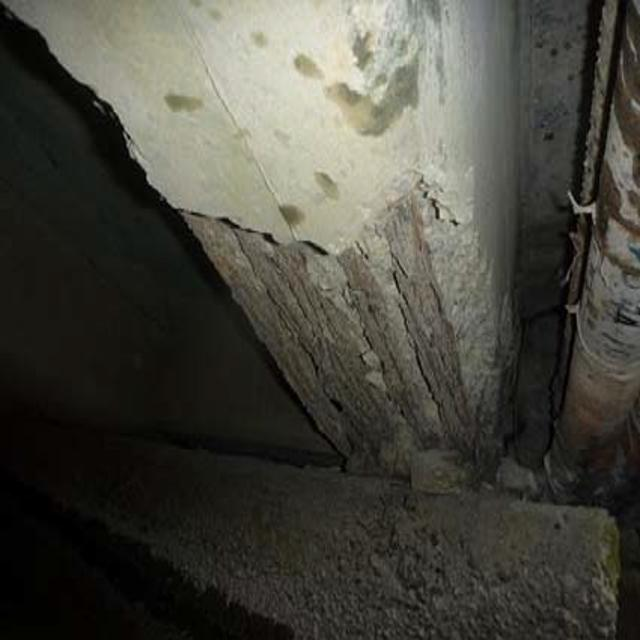spalling: (143, 182, 497, 482)
